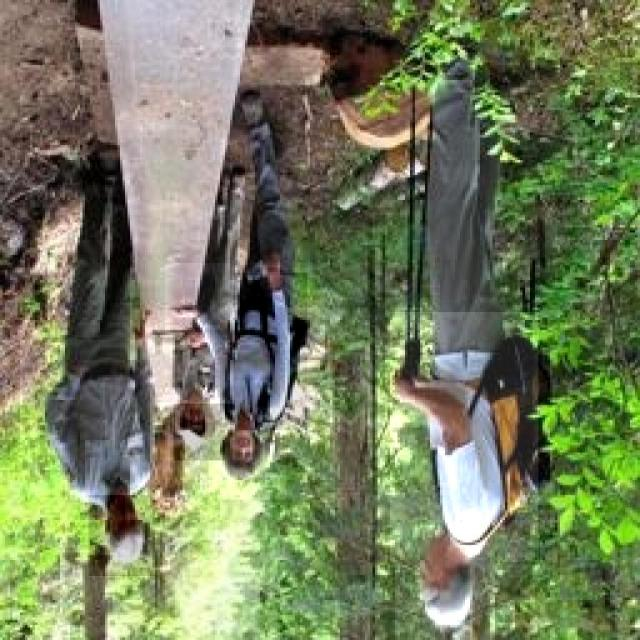Helmet: (390, 312, 538, 562), (20, 340, 170, 495), (222, 273, 307, 430), (395, 540, 495, 640), (165, 263, 233, 404), (208, 409, 286, 499), (89, 487, 155, 576), (173, 383, 225, 461)
